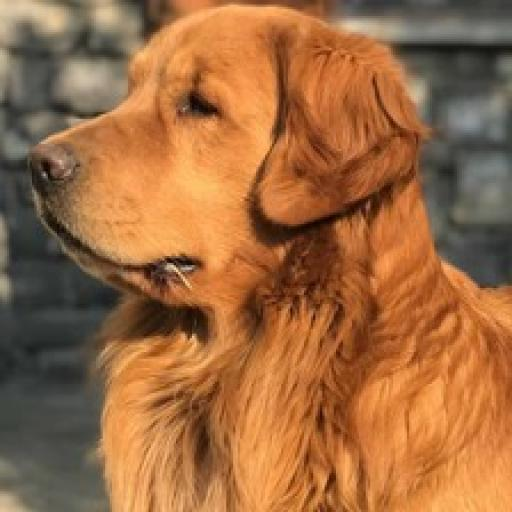dog: (23, 2, 510, 512)
